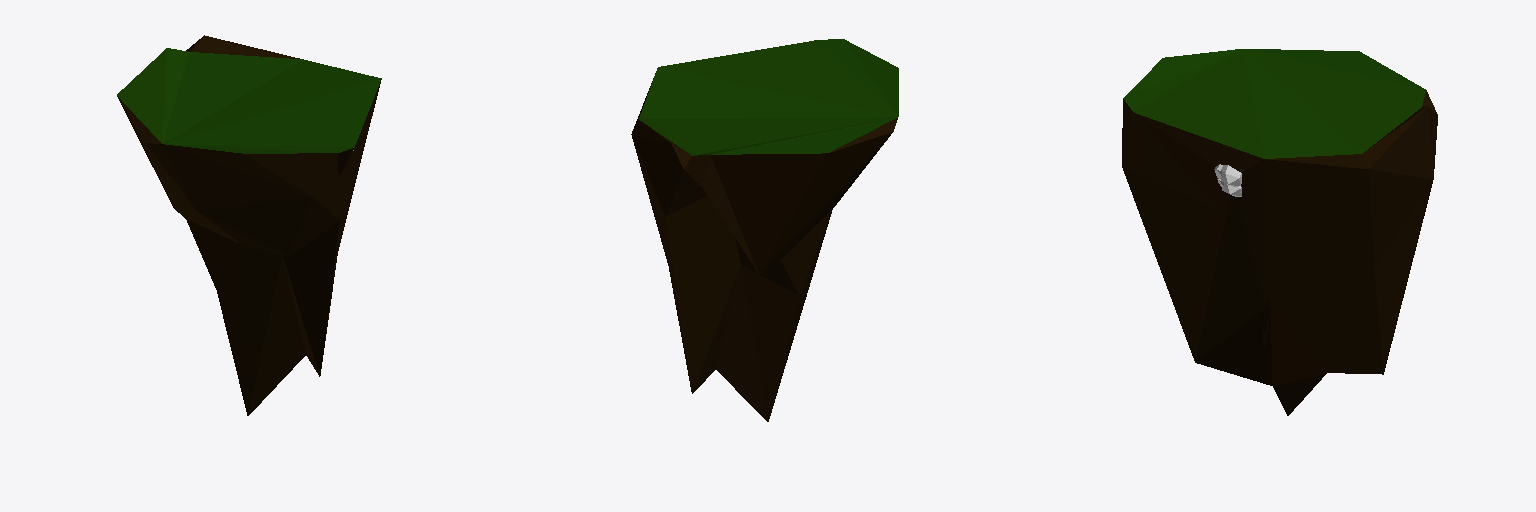
Rendered from floating-island-large.obj.
The picture shows the model from 3 angles: view 1: azimuth 30°, elevation 25°; view 2: azimuth 150°, elevation 25°; view 3: azimuth 270°, elevation 25°; orthographic projection.
Visible parts, largest first — view 1: island_Icosphere; view 2: island_Icosphere; view 3: island_Icosphere.
Boxes of the visible parts, box(x1,y1,x2,y2) form: island_Icosphere: box(117, 35, 381, 415); island_Icosphere: box(631, 39, 898, 421); island_Icosphere: box(1122, 49, 1437, 415).
Bounding box in the file's own units: 6.05 × 7.98 × 7.03.